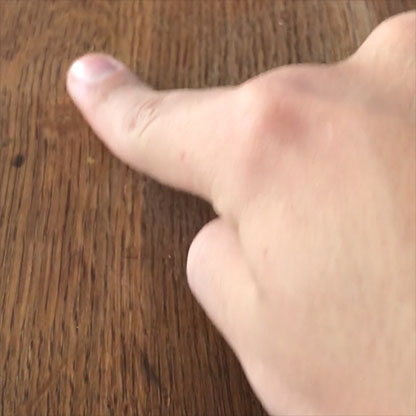fingertip: (48, 43, 137, 109)
